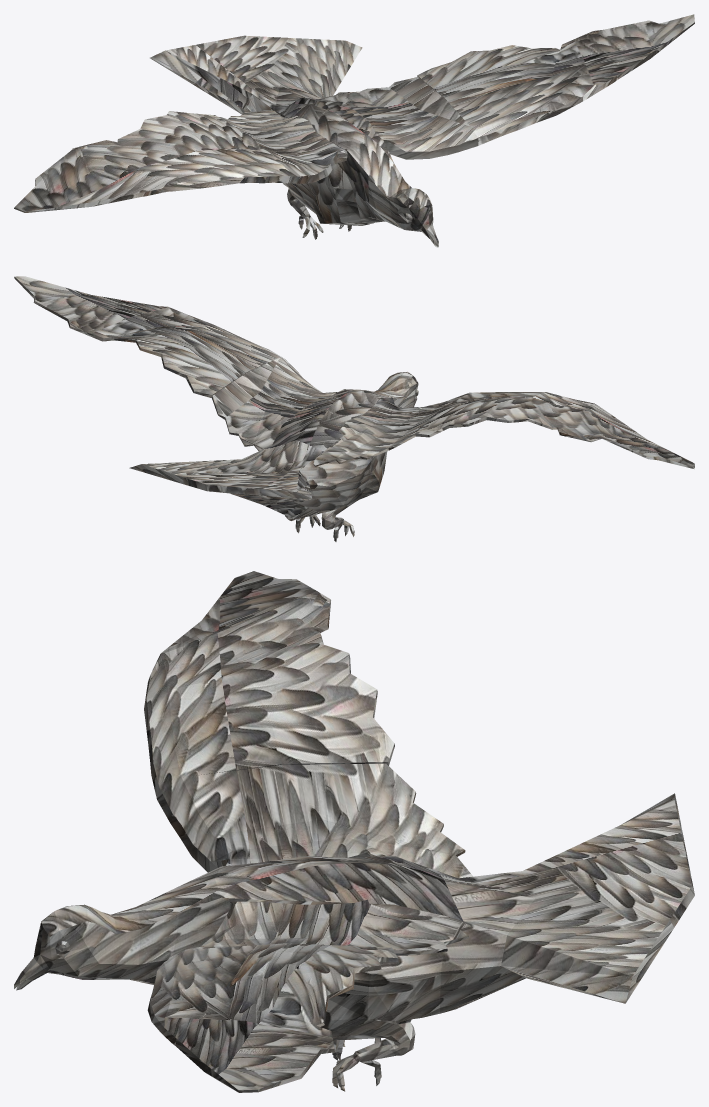
The model's file is pigeon.gltf.
3 views of the same model, one above another, from view 1: azimuth 30°, elevation 25°; view 2: azimuth 150°, elevation 25°; view 3: azimuth 270°, elevation 25° (orthographic). The views are drawn at different scales.
Parts seen in each view (by area): view 1: flying.001, flying, flying.002; view 2: flying.001, flying, flying.002; view 3: flying, flying.002, flying.001.
Part boxes in pixels (box(x1,y1,x2,y2)): flying.001: box(322, 14, 694, 159); flying: box(150, 35, 438, 247); flying.002: box(14, 110, 347, 212); flying.001: box(14, 276, 337, 451); flying: box(129, 371, 418, 541); flying.002: box(313, 392, 694, 469); flying: box(14, 793, 694, 1091); flying.002: box(144, 571, 472, 878); flying.001: box(147, 899, 470, 1092).
Bounding box in the file's own units: 11.72 × 2.61 × 5.98.
3 materials, 3 textured.
